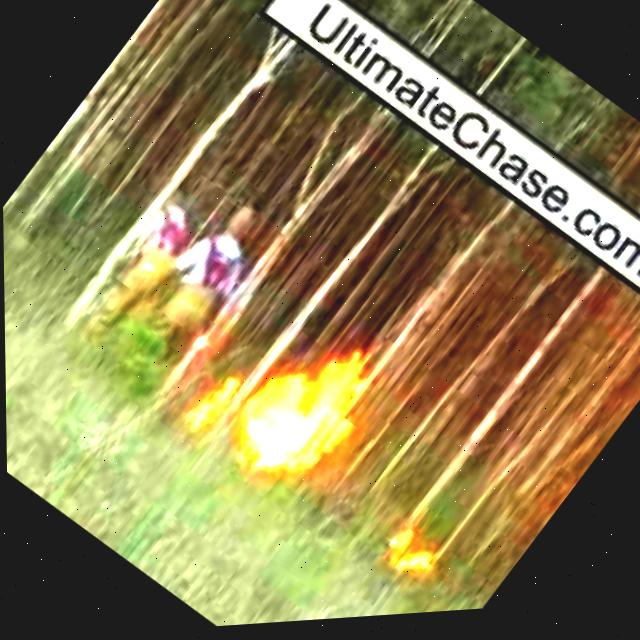Fire: (210, 310, 403, 518), (216, 328, 386, 509), (171, 359, 252, 449), (369, 516, 446, 596), (376, 529, 436, 591), (183, 377, 240, 441)
